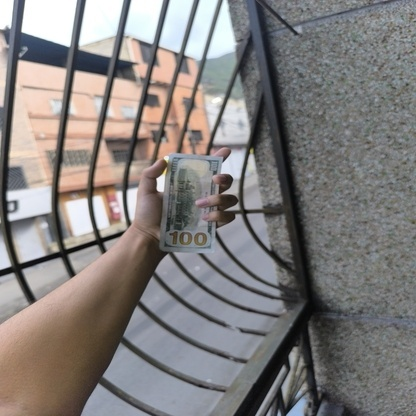one_hundred-back: (160, 151, 221, 254)
